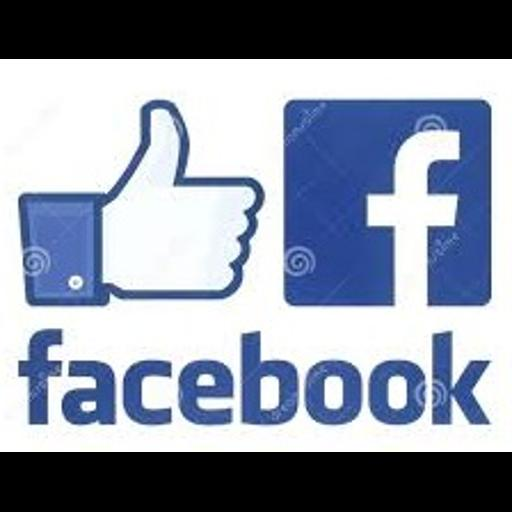Facebook: (0, 59, 512, 452)
